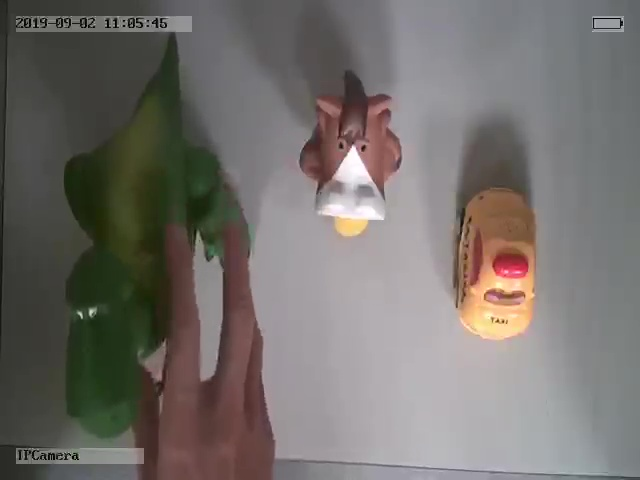car: (453, 183, 538, 343)
horse: (300, 71, 402, 237)
